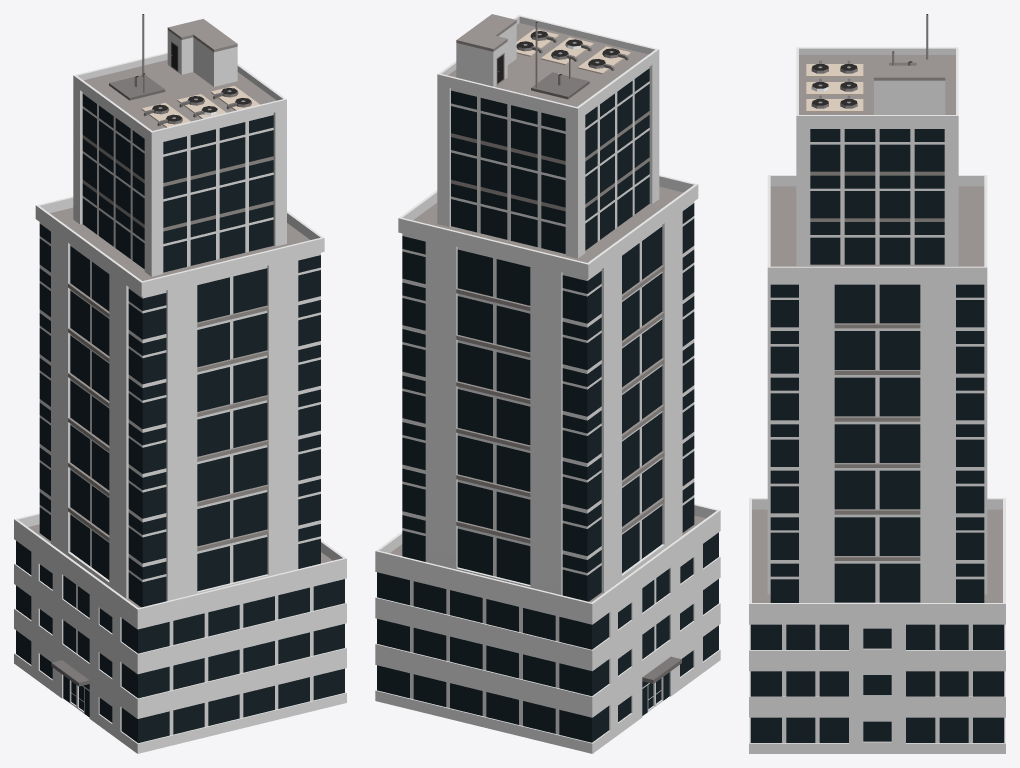
Rendered from building_7.fbx.
3 views of the same model, side by side, from view 1: azimuth 30°, elevation 25°; view 2: azimuth 150°, elevation 25°; view 3: azimuth 270°, elevation 25° (orthographic). The views are drawn at different scales.
Visible parts, largest first — view 1: building_7; view 2: building_7; view 3: building_7.
Part boxes in pixels (x1,y1,x2,y2): building_7: [14, 14, 346, 753]; building_7: [375, 14, 720, 753]; building_7: [749, 14, 1005, 753].
Size of the model in its own units: 1.85 by 5.26 by 1.8.
